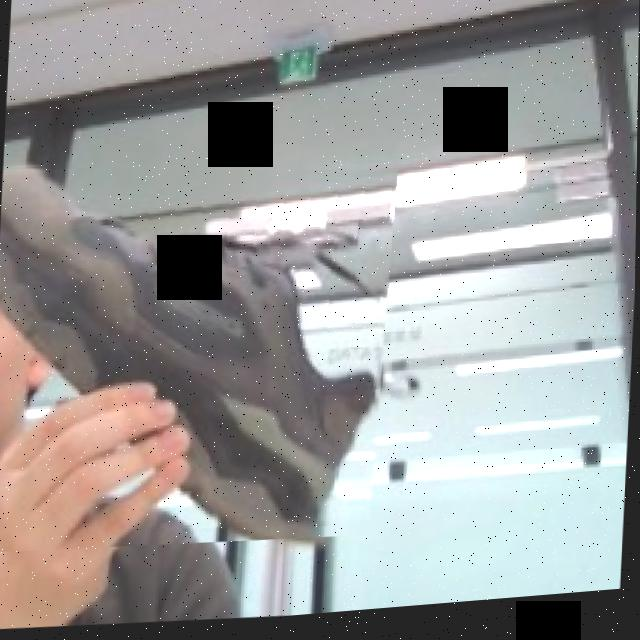shoe: (0, 146, 398, 565)
